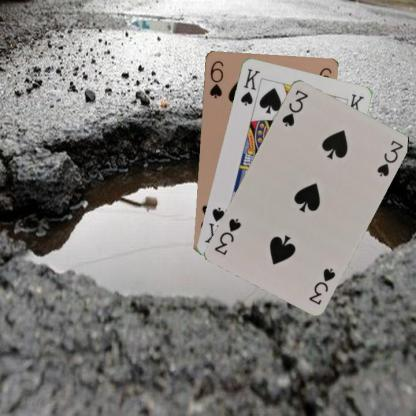3s: (279, 86, 310, 127), (306, 265, 336, 306)
6s: (207, 58, 225, 99)
Ks: (238, 65, 261, 107)
